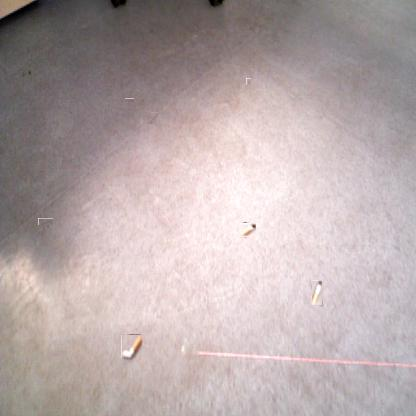dirty: (121, 334, 142, 358), (312, 280, 322, 305), (242, 222, 256, 237)
mark: (146, 113, 158, 124), (40, 216, 51, 227), (126, 97, 133, 105), (26, 70, 32, 76), (20, 71, 26, 77), (246, 78, 251, 85), (150, 28, 154, 34)
